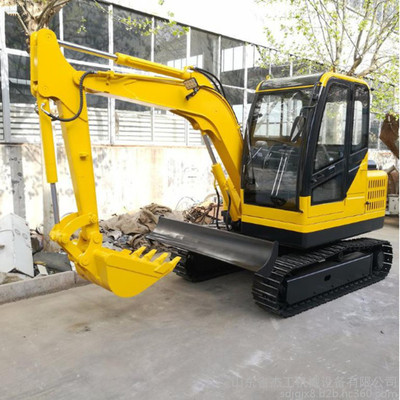excavator: (17, 17, 400, 314)
